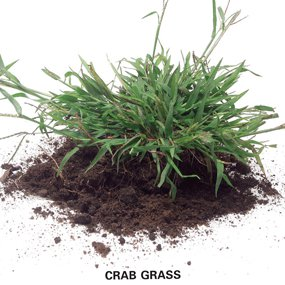crabgrass: (38, 57, 267, 171)
